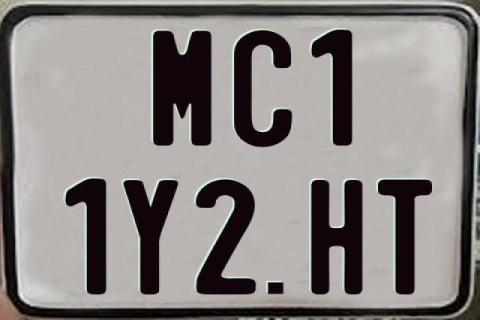0: (196, 177, 258, 292), (64, 176, 110, 292), (311, 29, 355, 149)
C: (231, 30, 293, 152)
H: (310, 180, 366, 294)
M: (152, 30, 212, 146)
T: (376, 178, 431, 296)
Y: (121, 180, 179, 298)
